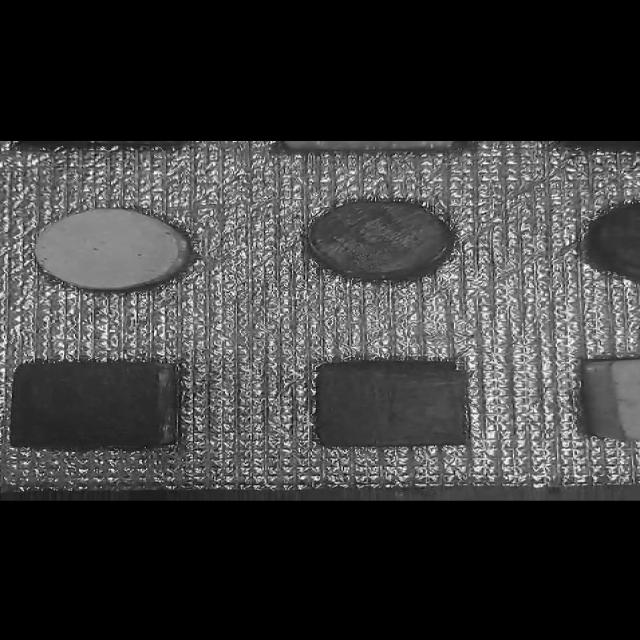bcube: (287, 348, 493, 467)
rcircle: (290, 192, 480, 308)
rcube: (0, 351, 194, 457)
ycircle: (29, 184, 186, 308)
